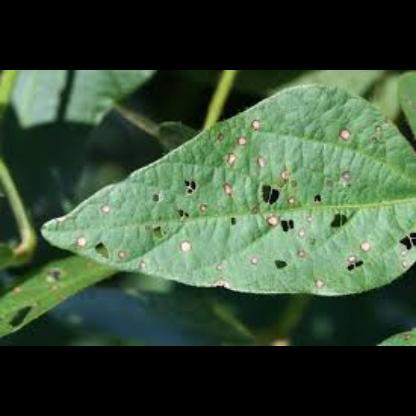agujero: (5, 303, 38, 325), (329, 210, 347, 235), (93, 242, 115, 262), (260, 182, 278, 206), (400, 231, 416, 253), (182, 180, 200, 196), (278, 219, 296, 234), (149, 190, 165, 206), (344, 259, 364, 271), (177, 209, 196, 221), (228, 214, 242, 228), (272, 259, 290, 269), (153, 224, 165, 236), (312, 196, 320, 203)
